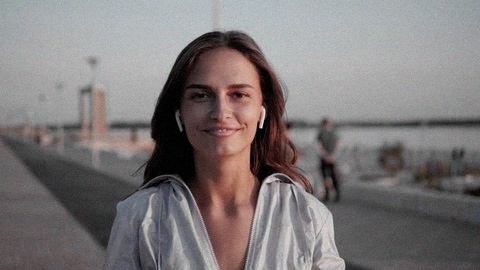earphone: (257, 101, 270, 129), (173, 104, 185, 132)
